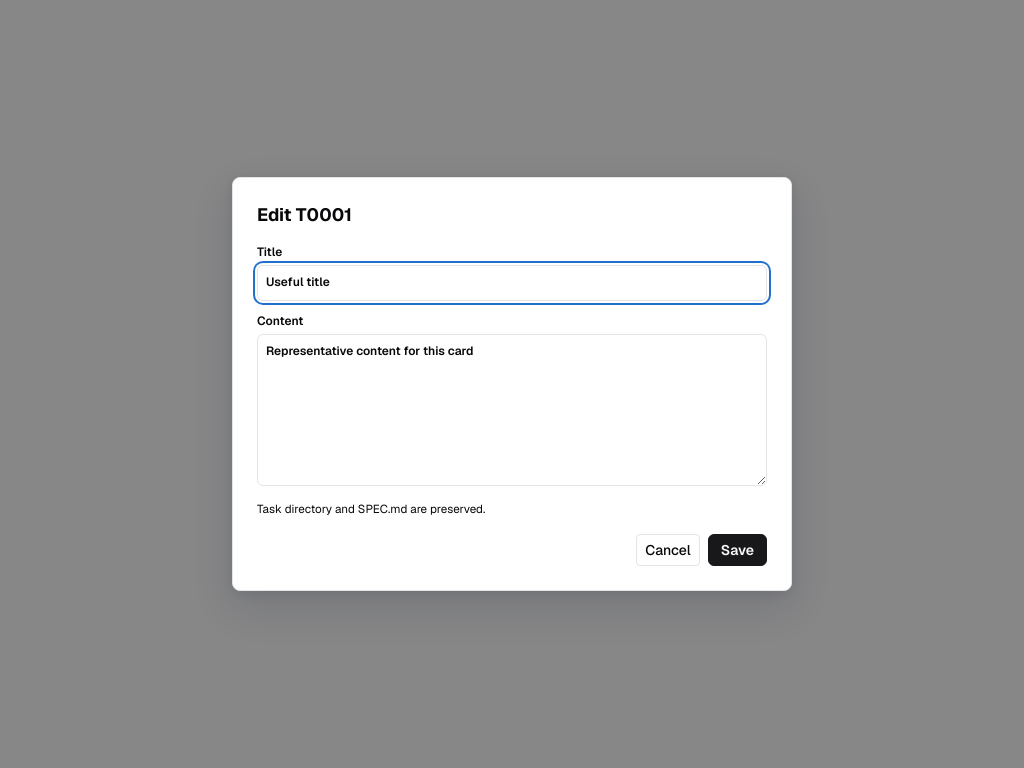
Test: keeps the dialog open on errors
Click the button "Save": (737, 550) [708,534,767,566]
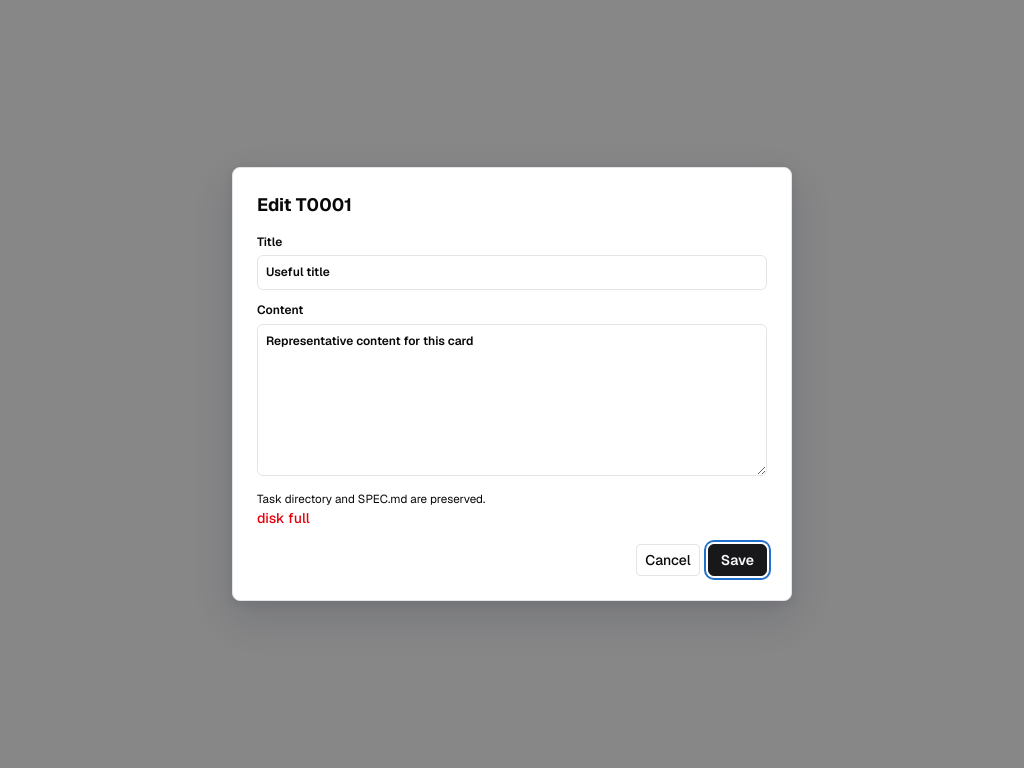
Expected: the dialog is shown, [232,167,792,602]
Expected: the message reads "disk full", [257,509,310,527]
